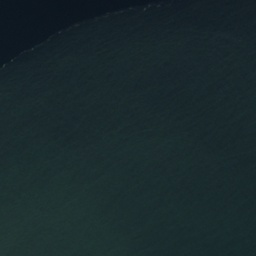Marine Debris: (0, 58, 15, 69)
